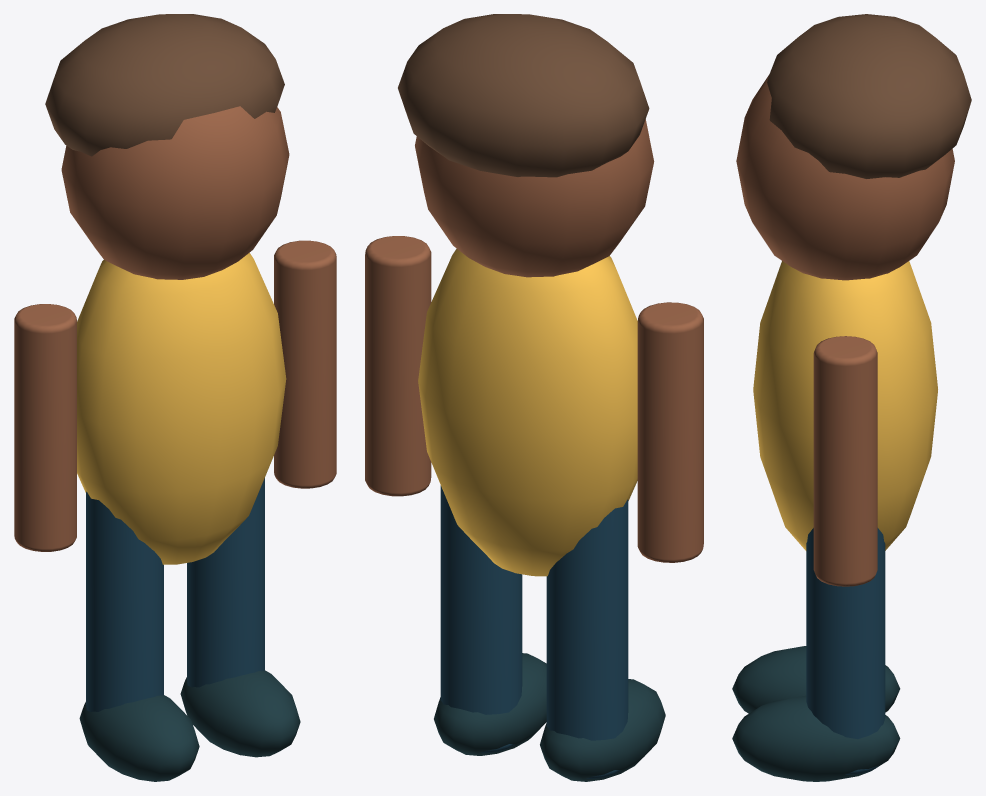
File: person.fbx
3 views of the same model, side by side, from view 1: azimuth 30°, elevation 25°; view 2: azimuth 150°, elevation 25°; view 3: azimuth 270°, elevation 25° (orthographic). The views are drawn at different scales.
Visible parts, largest first — view 1: Body.001, Head, Hair, Arm, Arm.001, Leg_L, Leg_R, Shoe, Shoe.001; view 2: Body.001, Hair, Head, Arm, Leg_L, Arm.001, Leg_R, Shoe, Shoe.001; view 3: Body.001, Hair, Head, Arm.001, Leg_R, Shoe.001, Shoe.
Boxes of the visible parts, x1,y1,x2,y2 form: Body.001: (77,253,286,564); Head: (61,106,289,279); Hair: (45,14,284,156); Arm: (14,304,76,551); Arm.001: (274,240,336,488); Leg_L: (86,491,163,711); Leg_R: (187,478,264,687); Shoe: (79,695,199,781); Shoe.001: (180,670,300,757); Body.001: (418,248,637,576); Hair: (398,14,649,177); Head: (415,119,654,277); Arm: (637,302,703,562); Leg_L: (546,499,628,778); Arm.001: (365,236,431,496); Leg_R: (440,485,522,753); Shoe: (540,679,665,781); Shoe.001: (434,653,546,755); Body.001: (753,261,937,550); Hair: (767,14,971,178); Head: (736,74,954,280); Arm.001: (813,336,877,586); Leg_R: (806,528,885,774); Shoe.001: (732,695,900,781); Shoe: (732,646,900,713).
Bounding box in the file's own units: 0.436 × 0.945 × 0.285.
